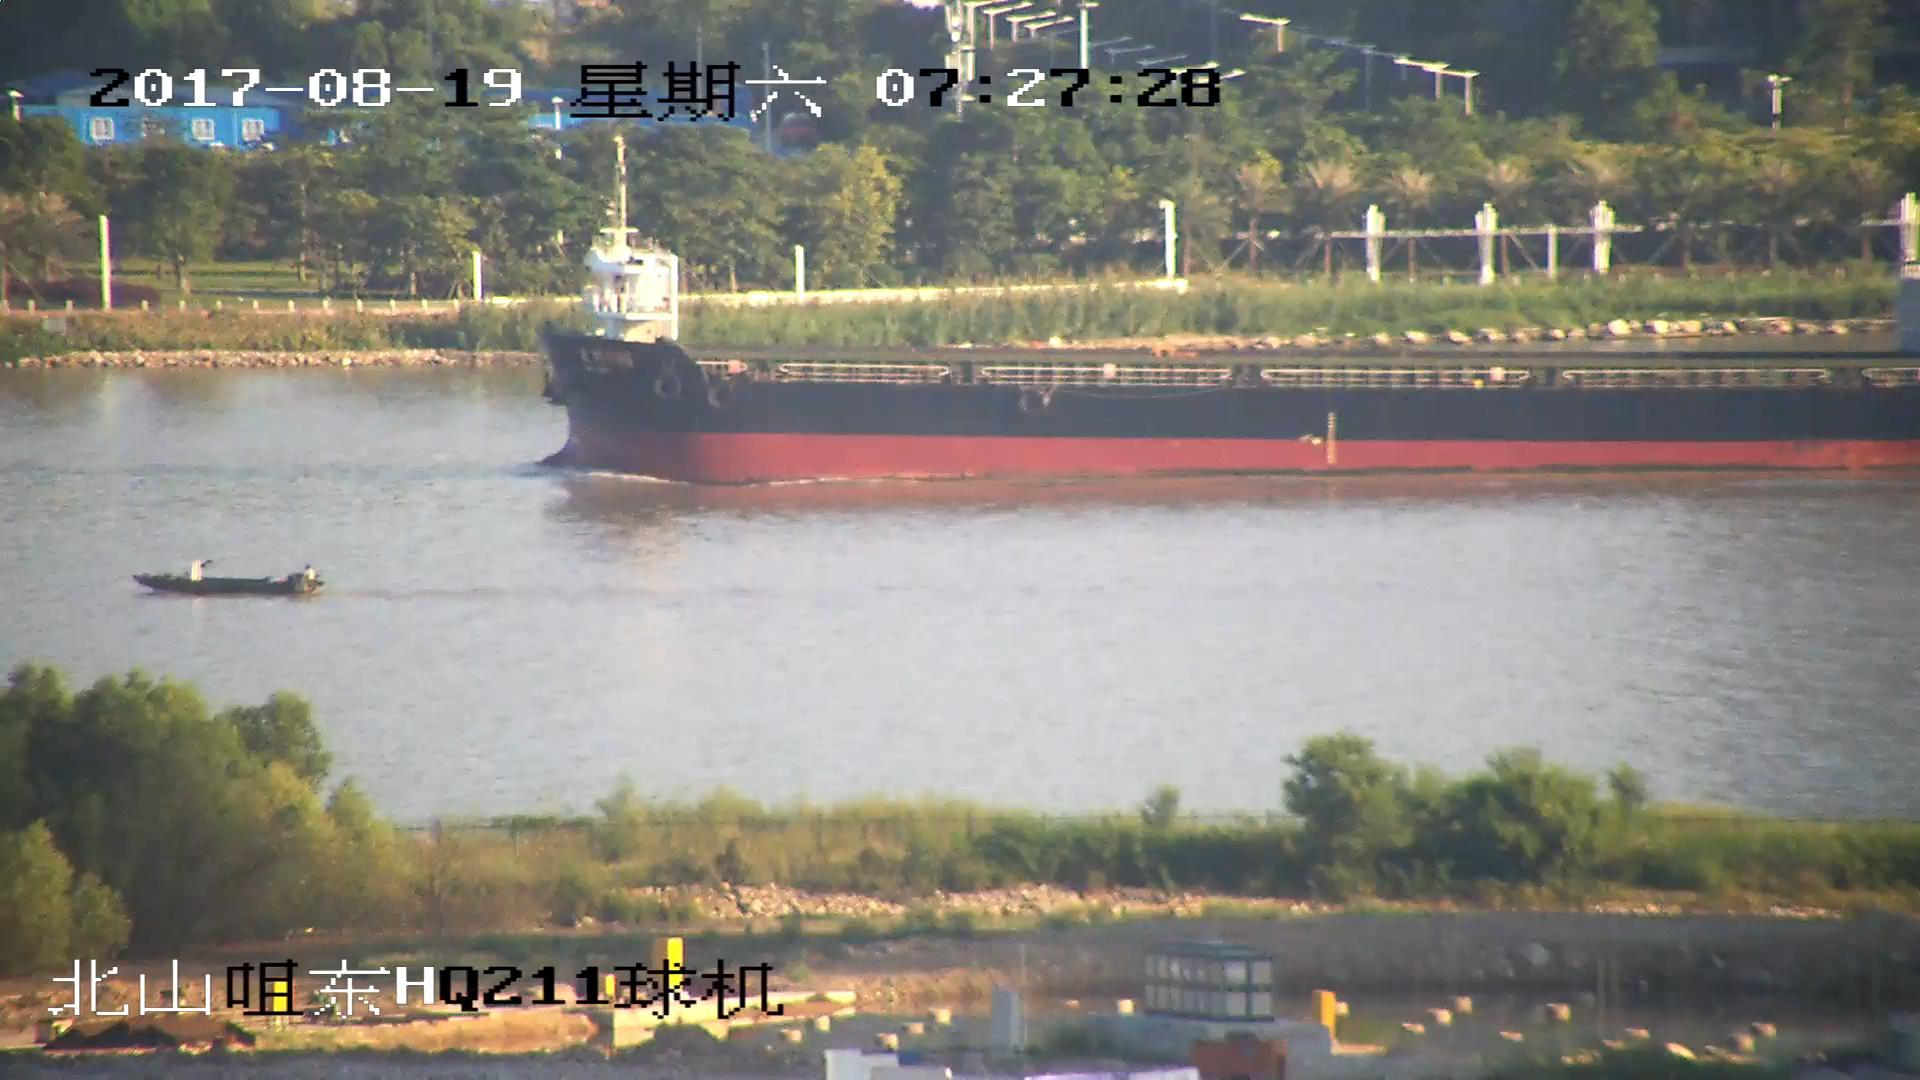Ship: (541, 207, 1920, 480), (136, 555, 326, 607)
